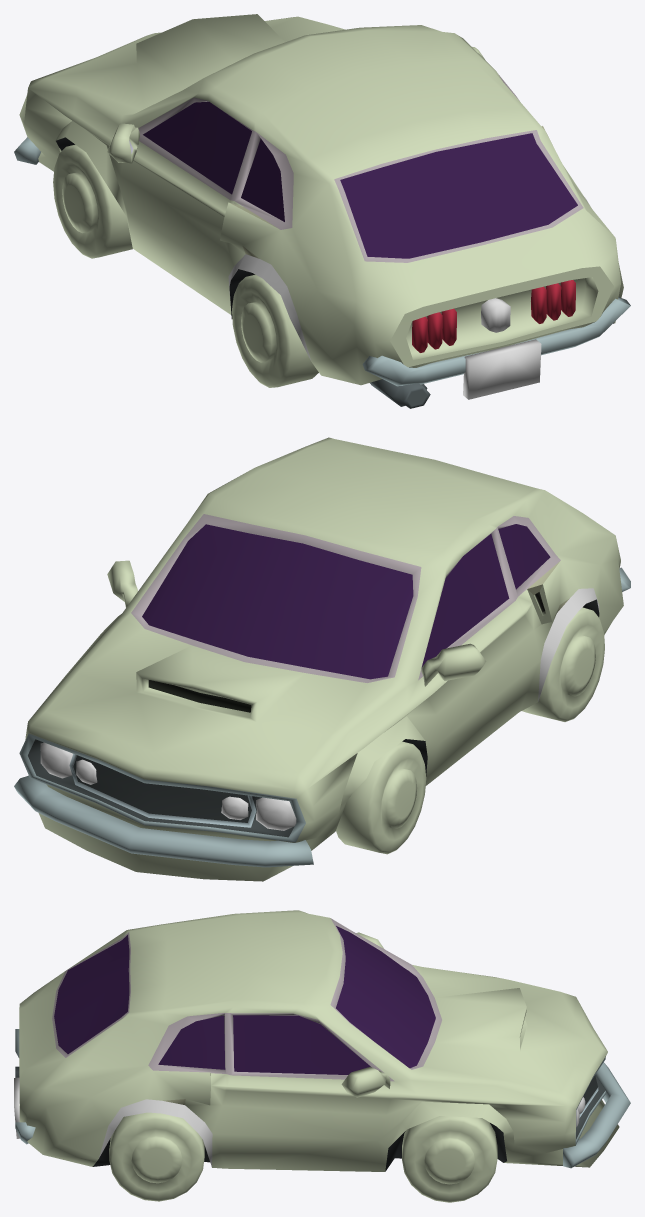
File: car06.fbx
The picture shows the model from 3 angles, top to bottom: view 1: azimuth 30°, elevation 25°; view 2: azimuth 150°, elevation 25°; view 3: azimuth 270°, elevation 25°; orthographic projection. The views are drawn at different scales.
Visible parts, largest first — view 1: car; view 2: car; view 3: car.
Part boxes in pixels (<box>): car: <box>14,14,630,408</box>; car: <box>14,437,630,881</box>; car: <box>14,910,630,1202</box>.
Bounding box in the file's own units: 2.41 × 1.42 × 4.17.
